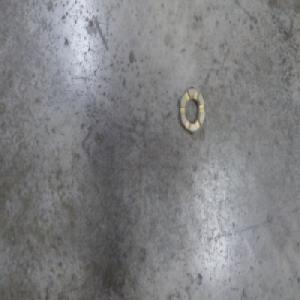Nut: (179, 84, 205, 136)
